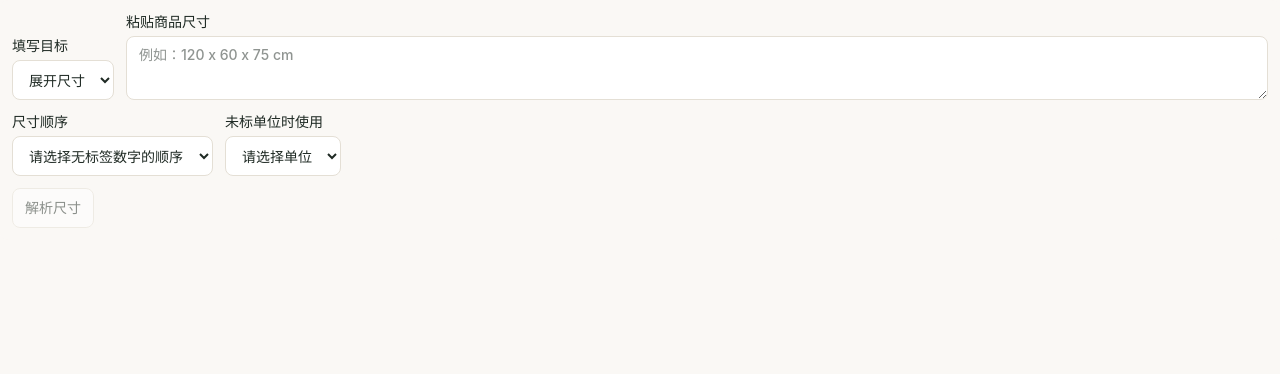
Scenario: ProductDimensionsAssist confirmation boundary › cancels without applying dimensions
Select "长 × 宽 × 高（L×W×H）" in the dropdown labelled "尺寸顺序" at (112, 156), box [12,136,213,176]
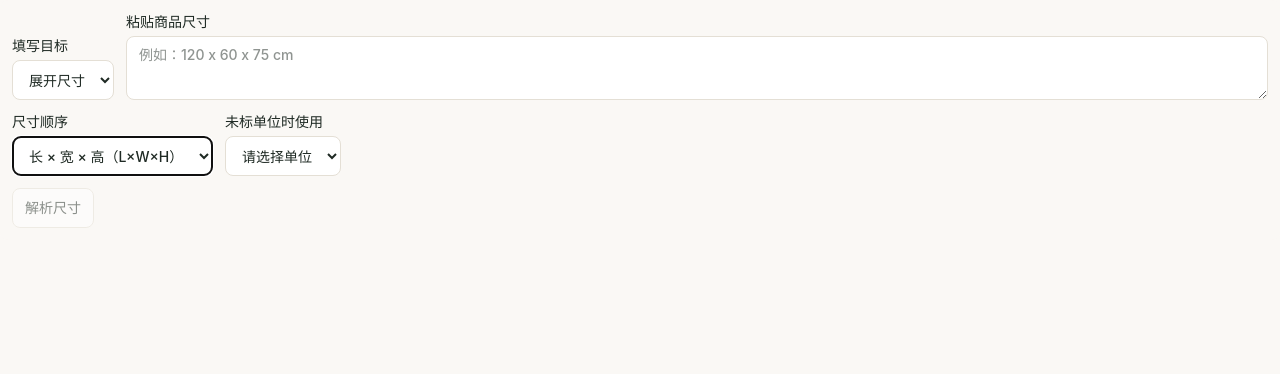
Type "120 x 60 x 75 cm; weight 5kg" into the text box labelled "粘贴商品尺寸" at (697, 68), box [126,36,1268,100]
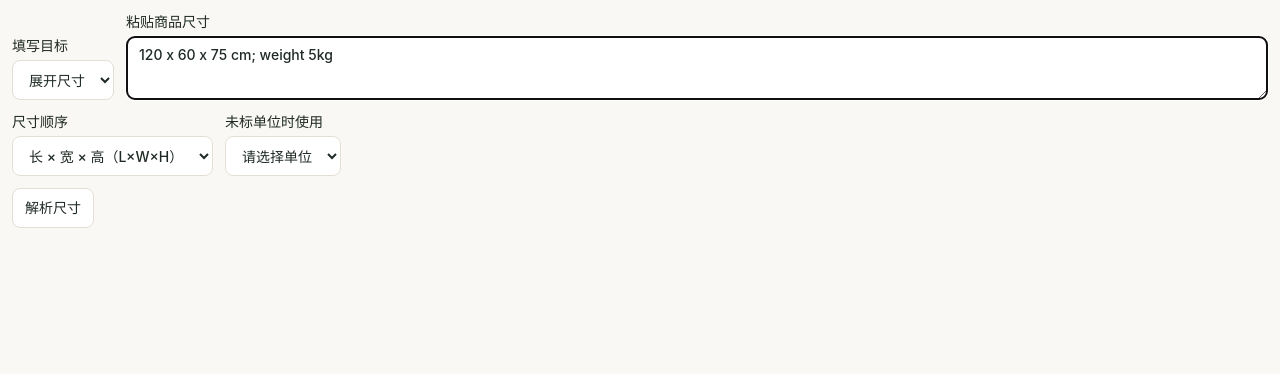
Click the button "解析尺寸" at (53, 208), box [12,188,94,228]
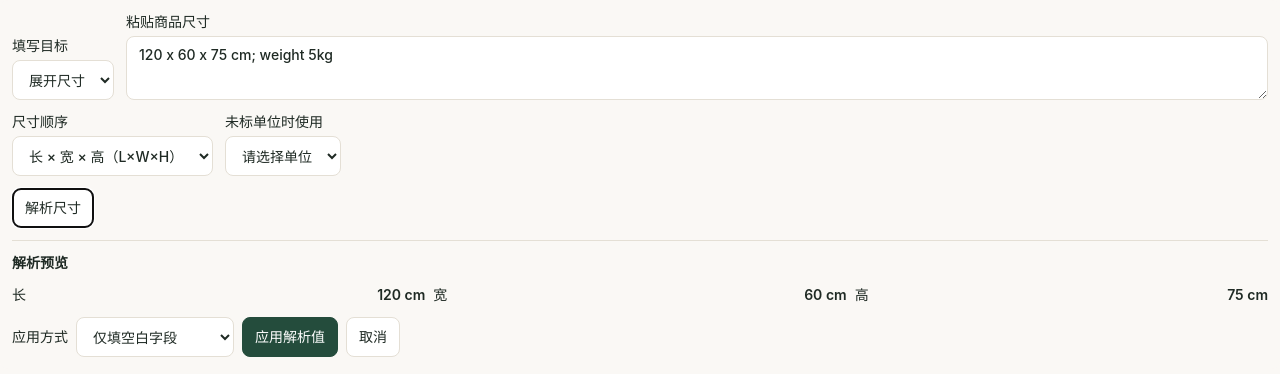
Click the button "取消" at (373, 337), box [346,317,400,357]
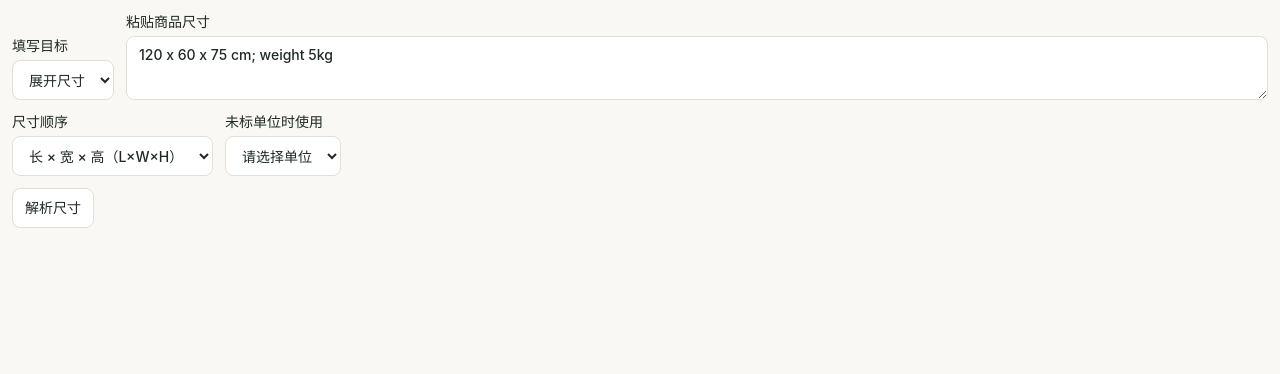
Check: the button "应用解析值" is gone
